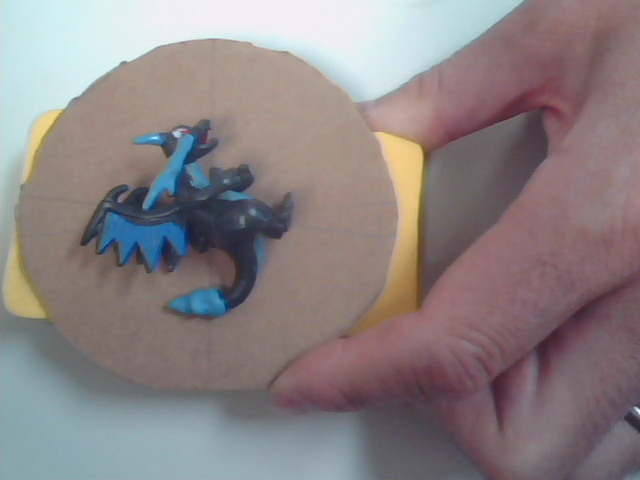charizard: (101, 107, 339, 335)
